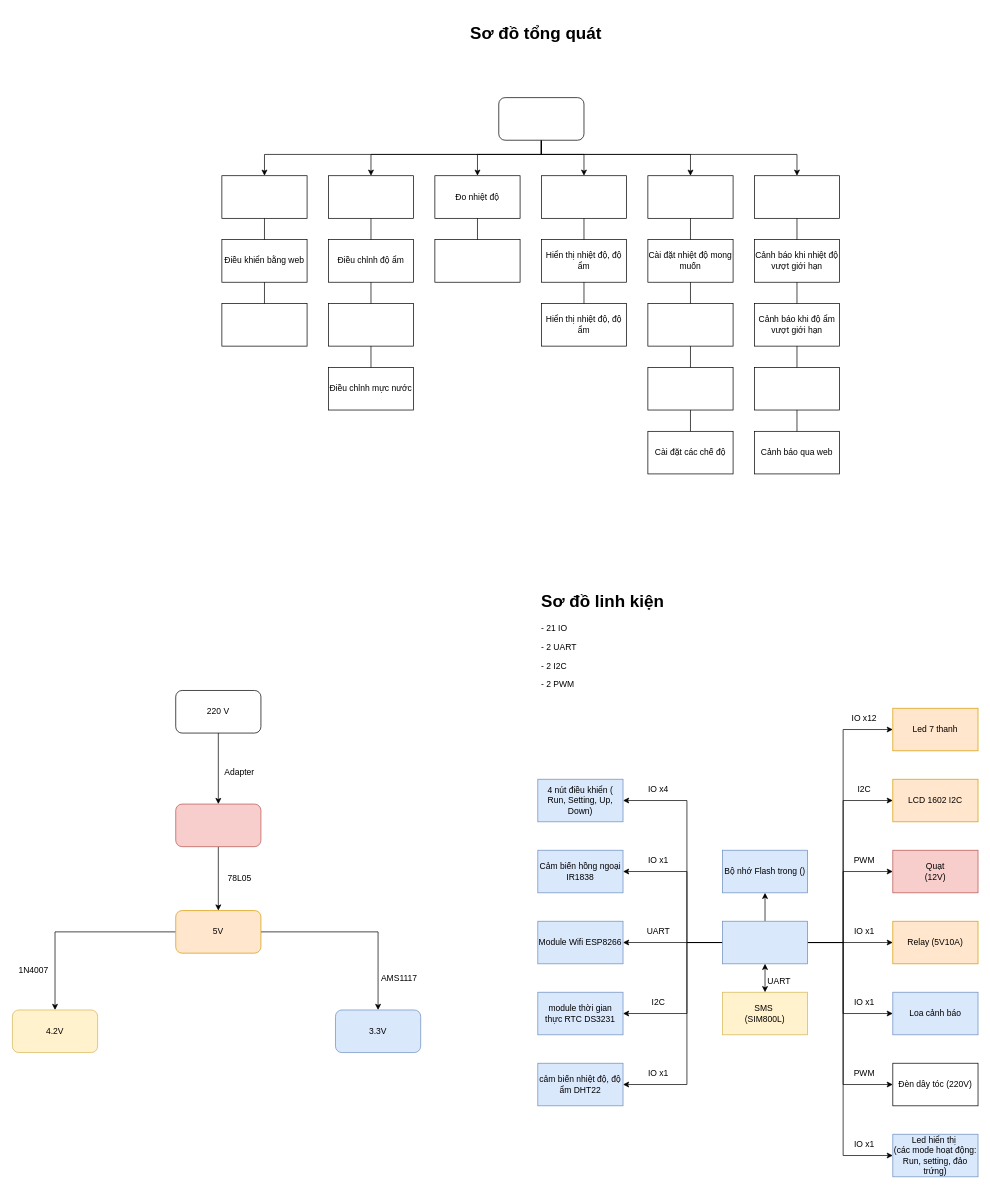
This 990x1189 diagram has some shape labels left out. Each missing label, with the centre of its shape:
12V: point (218, 825)
Cài đặt thời gian đảo khay trứng: point (690, 388)
Cài đặt thời gian ấp: point (690, 196)
Cài đặt độ ẩm mong muốn: point (690, 324)
Cảnh báo qua SIM: point (797, 388)
Cảnh báo trứng nở: point (797, 196)
Hiển thị thời gian ấp trứng: point (584, 196)
Mạch ấp trứng: point (541, 118)
STM32f103C8: point (765, 942)
Điều chỉnh nhiệt độ: point (371, 196)
Điều chỉnh đảo khay trứng: point (371, 324)
Điều khiển hồng ngoại: point (264, 324)
Điều khiển nút bấm: point (264, 196)
Đo độ ẩm: point (477, 260)
